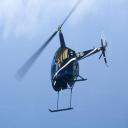helicopter: (17, 1, 113, 114)
